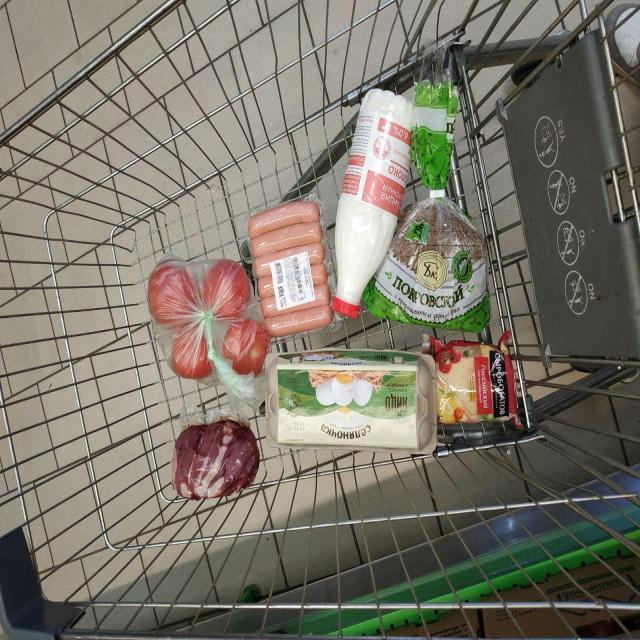cheese: (261, 198, 640, 544)
egg: (219, 191, 640, 550)
milk: (205, 110, 618, 215)
tomato: (137, 169, 398, 492), (106, 178, 309, 514), (124, 130, 342, 390), (100, 155, 295, 437)
